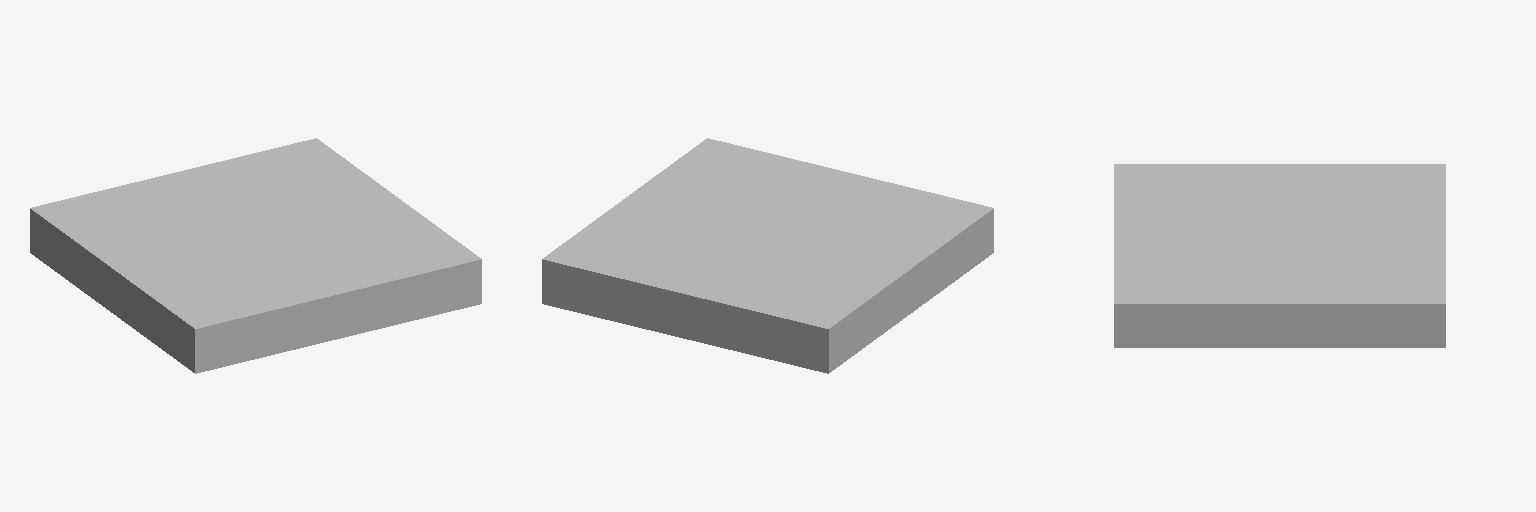
The model's file is Rooms.obj.
3 views of the same model, side by side, from view 1: azimuth 30°, elevation 25°; view 2: azimuth 150°, elevation 25°; view 3: azimuth 270°, elevation 25° (orthographic).
Visible parts, largest first — view 1: Room; view 2: Room; view 3: Room.
Boxes of the visible parts, box(x1,y1,x2,y2) form: Room: box(30, 138, 481, 373); Room: box(542, 138, 993, 373); Room: box(1114, 164, 1445, 347).
Bounding box in the file's own units: 14.29 × 2.13 × 14.29.